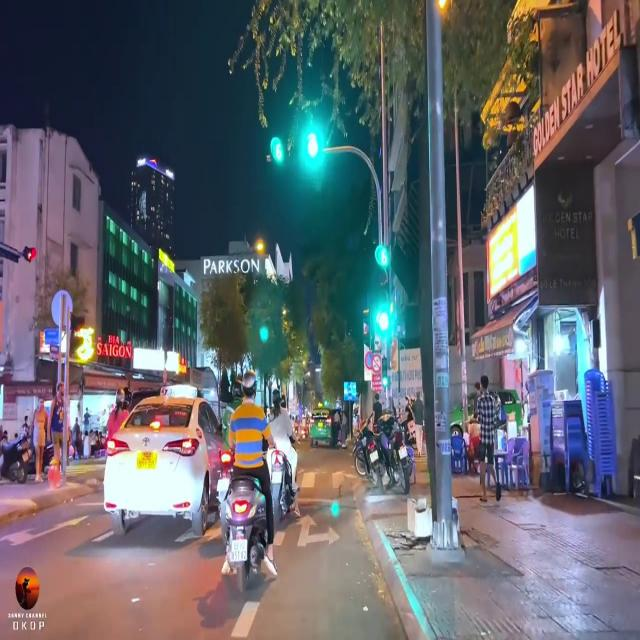bien_trang: (230, 538, 248, 562)
bien_vang: (135, 452, 157, 470)
